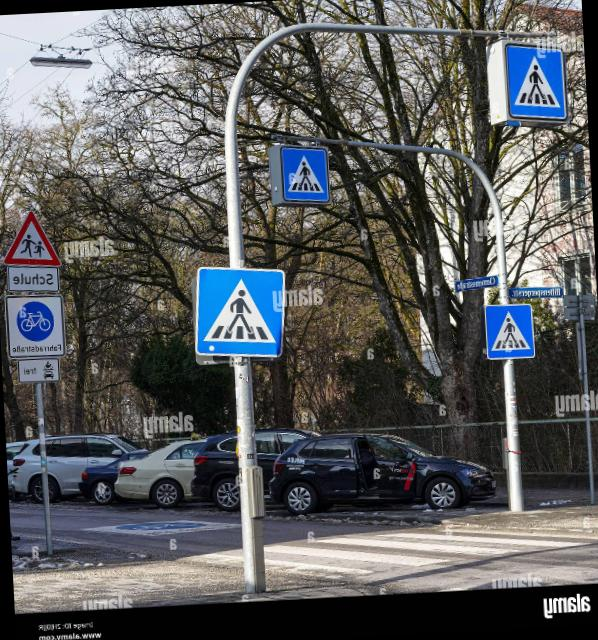crosswalk-sign: (192, 263, 291, 366), (486, 36, 572, 132), (274, 143, 334, 209), (485, 303, 538, 362)
